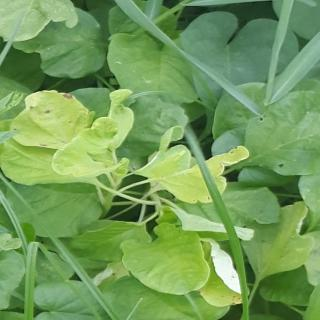karat_putih: (0, 0, 81, 46), (0, 232, 26, 277)
kekurangan_mangan: (154, 141, 254, 206), (5, 86, 99, 152), (187, 232, 253, 308)
